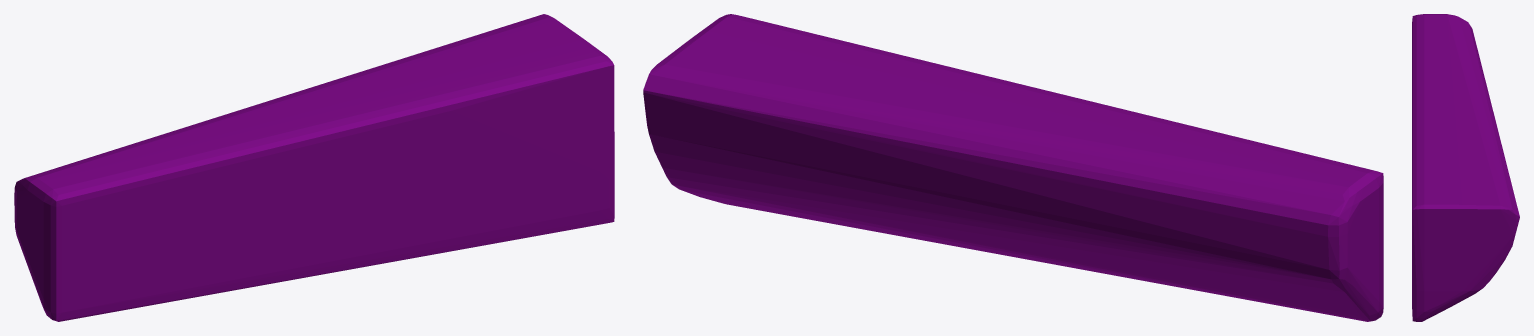
Rendered from left_f_proximal_part_11.obj.
3 renders of one model, left to right at view 1: azimuth 30°, elevation 25°; view 2: azimuth 150°, elevation 25°; view 3: azimuth 270°, elevation 25°, orthographic. The views are drawn at different scales.
Bounding box in the file's own units: 5.09 × 1.39 × 1.18.
